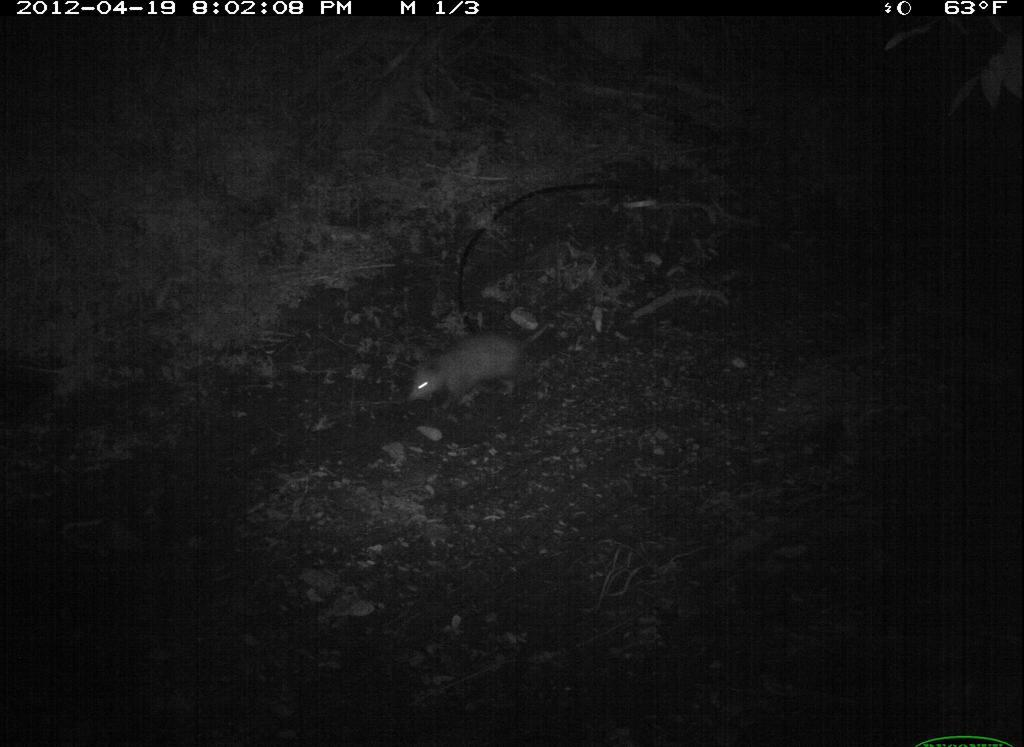opossum: (400, 310, 583, 422)
